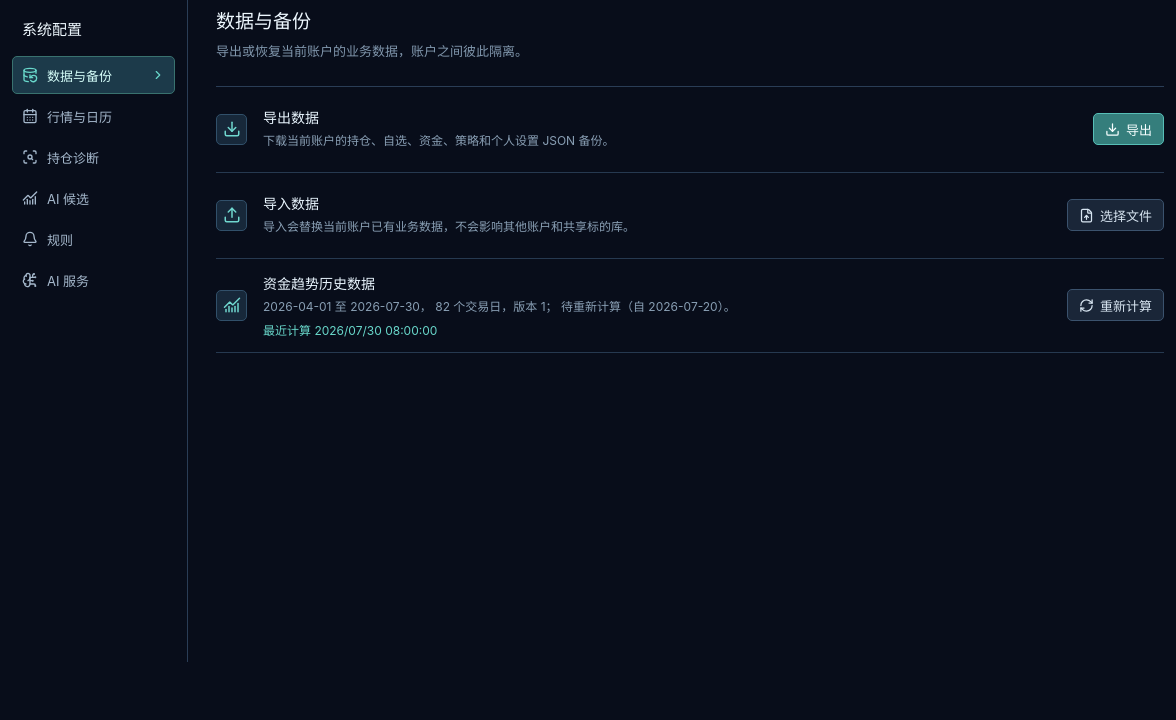
Test case: SystemConfigurationView › shows the intraday data source preference and persists the selection
Click the button with class "system-configuration-nav-item" showing "行情与日历" at (94,116), box [12, 97, 175, 135]
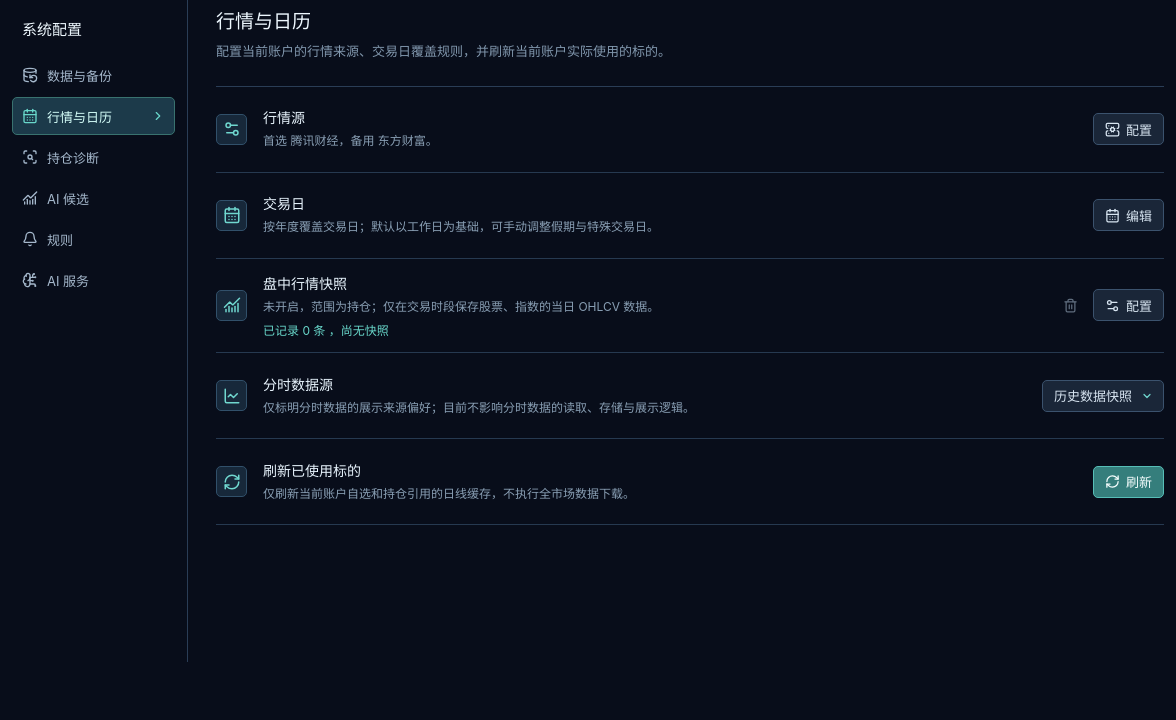
Now the dropdown named "分时数据源" shows "历史数据快照"
Select "实时分时数据" in the dropdown named "分时数据源" at (1103,396), box [1042, 380, 1164, 412]
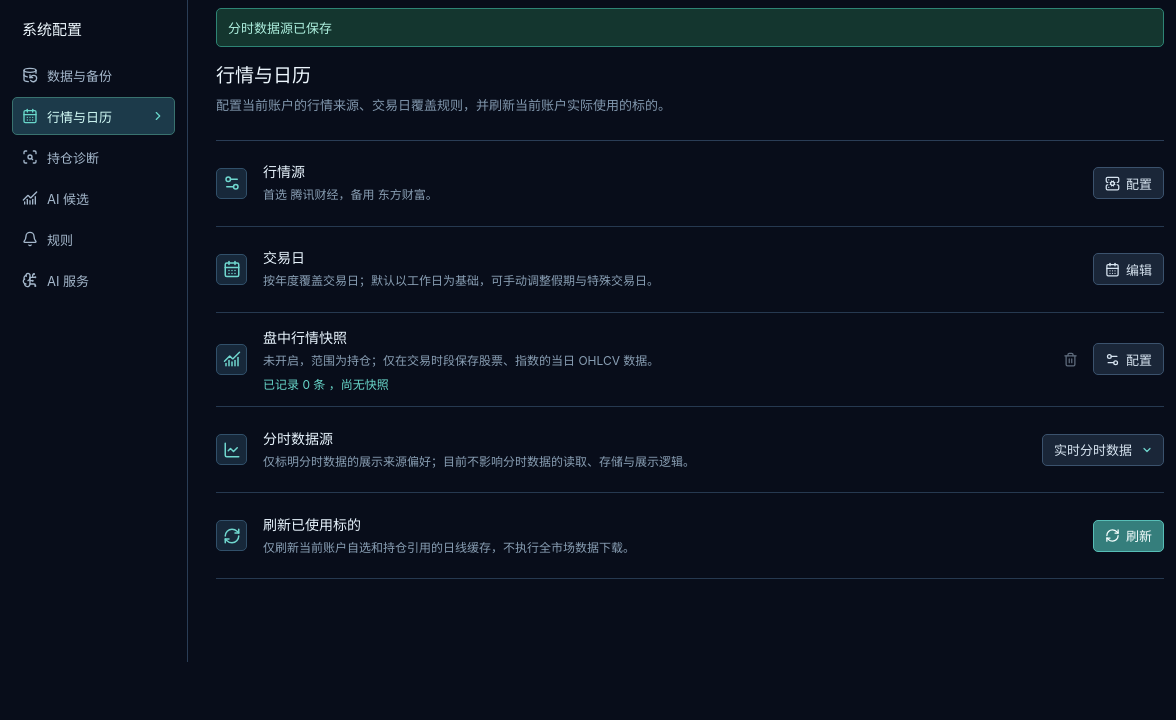
Now the text "分时数据源已保存" is shown, box [216, 8, 1164, 47]
